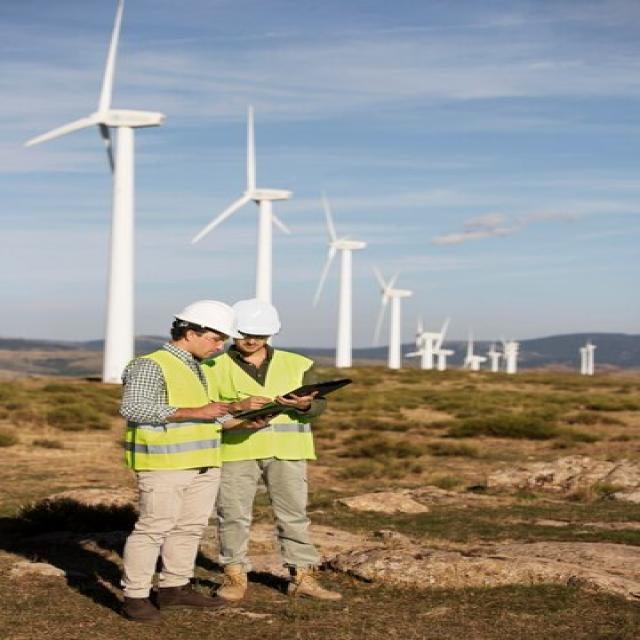wind-turbine: (24, 0, 165, 382), (191, 105, 292, 302), (313, 192, 368, 367), (374, 268, 412, 368)
